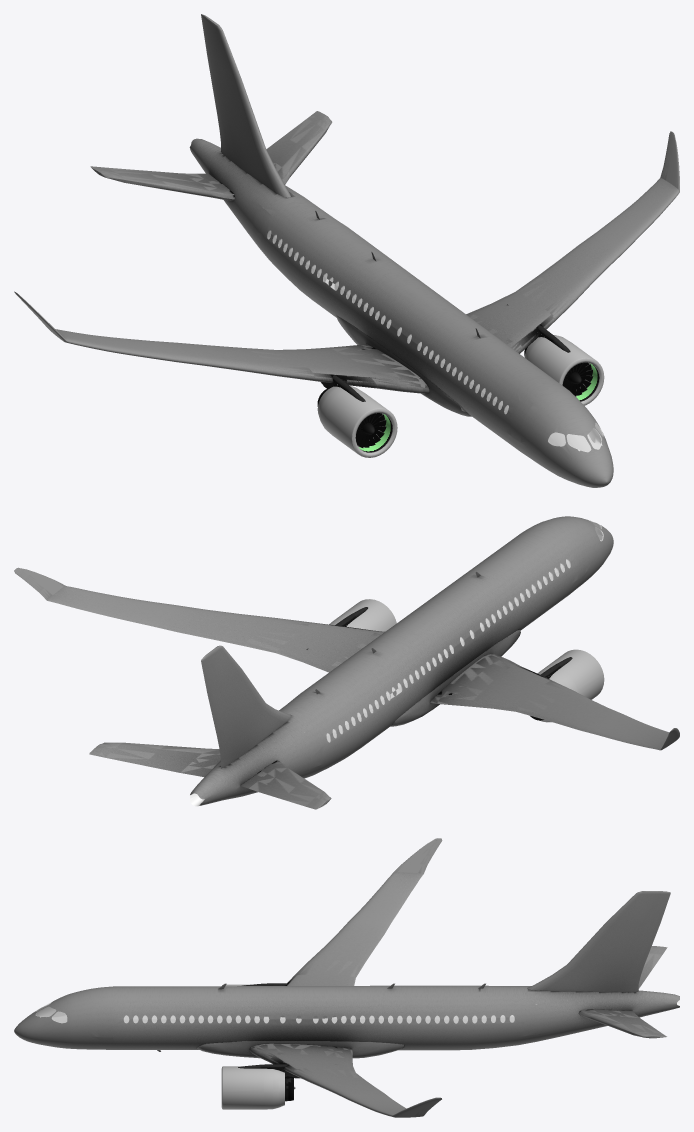
Rendered from BCS3.glb.
3 renders of one model, top to bottom at view 1: azimuth 30°, elevation 25°; view 2: azimuth 150°, elevation 25°; view 3: azimuth 270°, elevation 25°, orthographic. The views are drawn at different scales.
Visible parts, largest first — view 1: wings; view 2: wings; view 3: wings.
Part boxes in pixels (box(x1,y1,x2,y2)): wings: box(14, 14, 679, 487); wings: box(14, 516, 679, 809); wings: box(14, 838, 679, 1117).
Size of the model in its own units: 35.17 by 11.09 by 38.17.
Materials: 8 (3 with a texture image).
